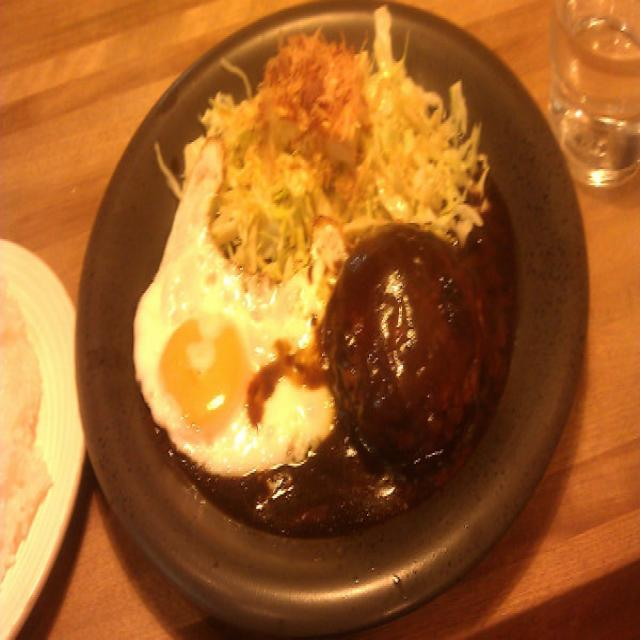Egg: (136, 255, 297, 468)
